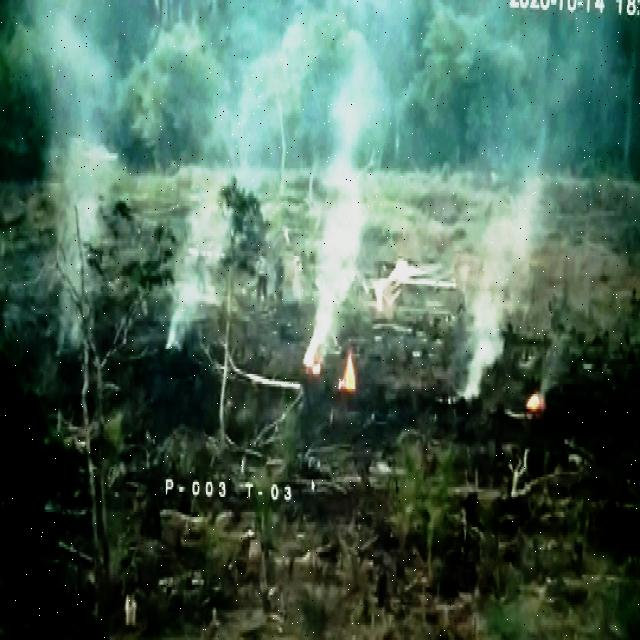asap: (18, 9, 128, 381), (300, 67, 396, 385), (456, 140, 546, 418), (160, 144, 234, 360)
